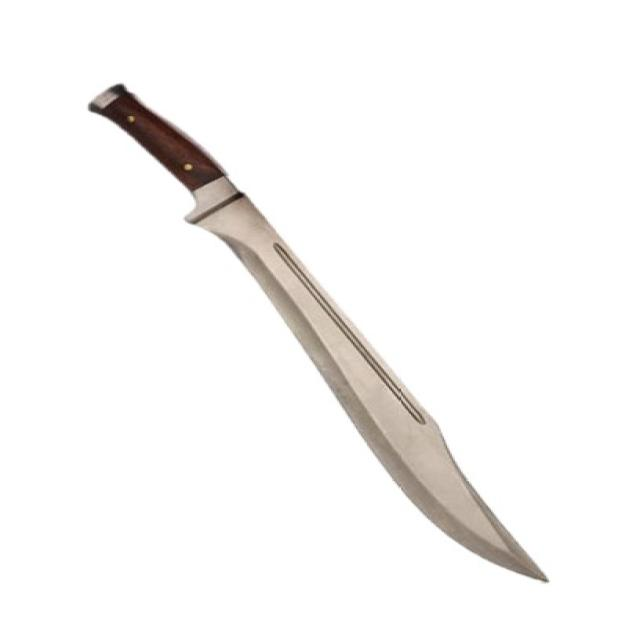knife: (82, 82, 576, 590)
